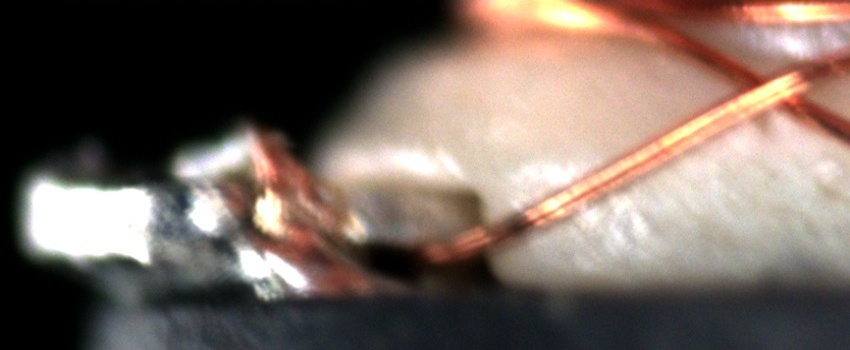CL: (722, 54, 817, 121)
TE: (233, 121, 324, 252)
